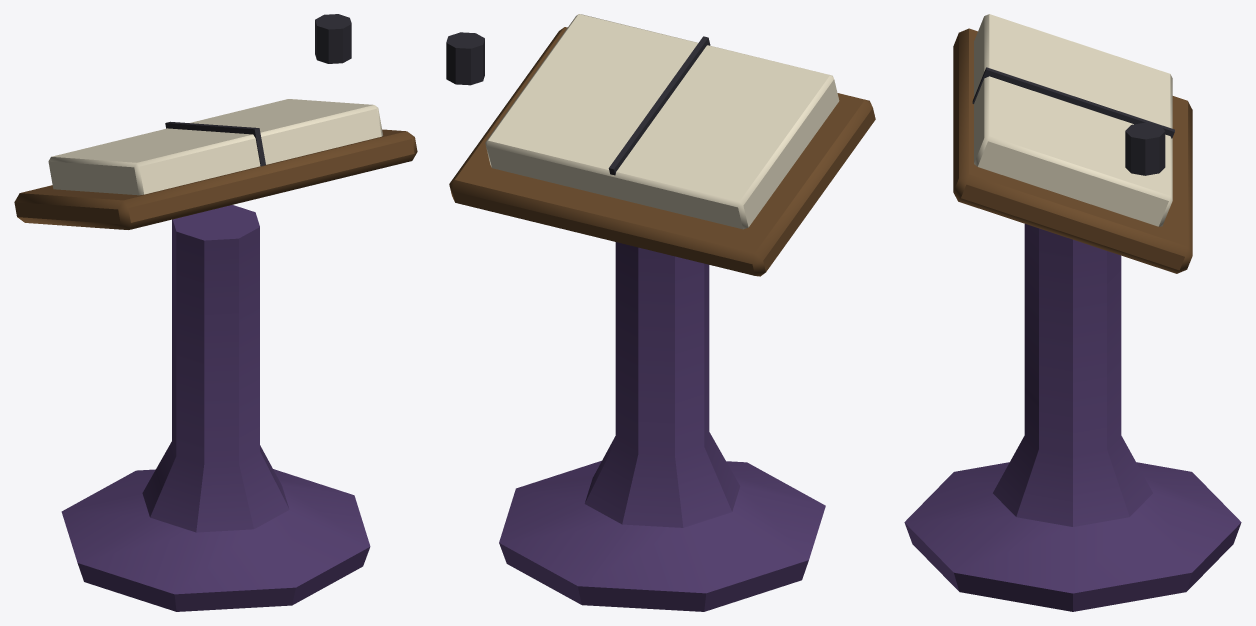
File: lectern.glb
3 renders of one model, left to right at view 1: azimuth 30°, elevation 25°; view 2: azimuth 150°, elevation 25°; view 3: azimuth 270°, elevation 25°, orthographic. The views are drawn at different scales.
Visible parts, largest first — view 1: lectern; view 2: lectern; view 3: lectern.
Part boxes in pixels (x1,y1,x2,y2): lectern: (14, 14, 417, 611); lectern: (446, 14, 875, 611); lectern: (904, 14, 1241, 611).
Size of the model in its own units: 0.96 by 1.35 by 0.84.
